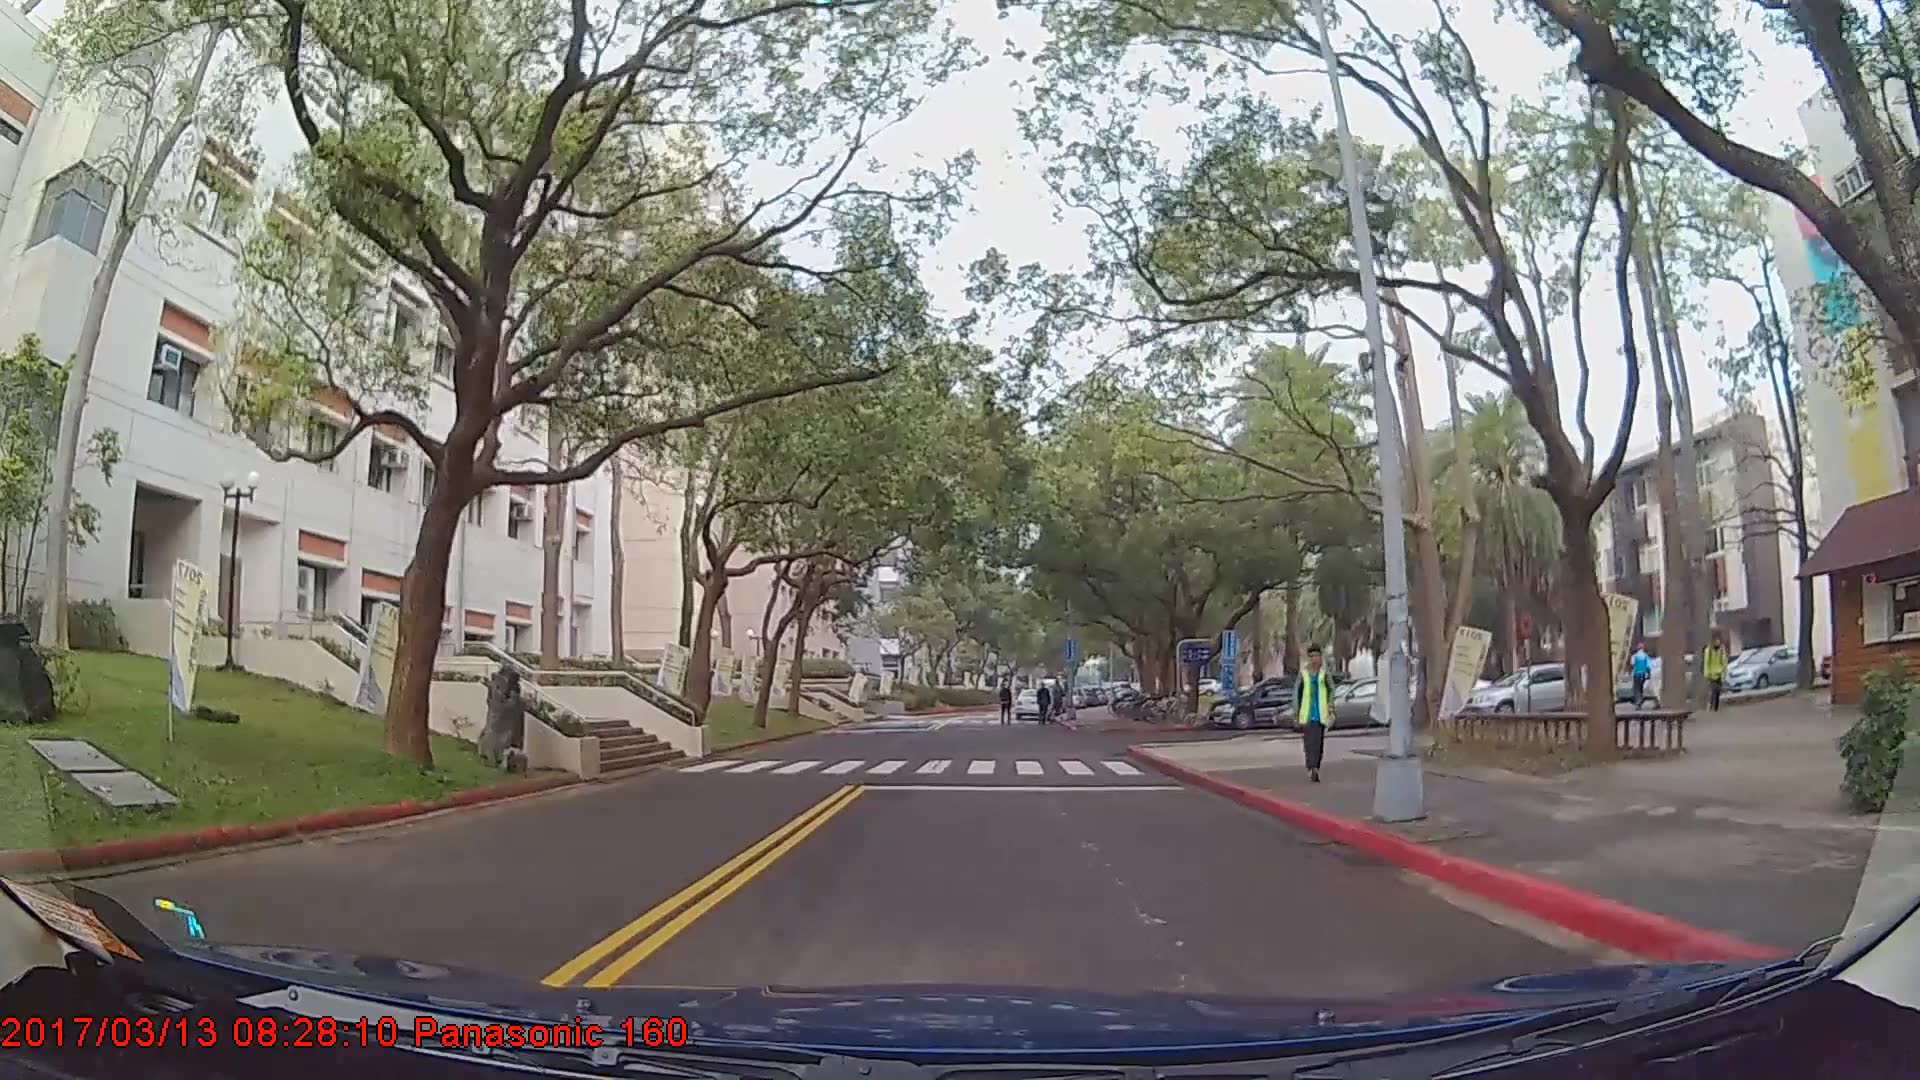pedestrian: (1296, 647, 1342, 787), (1631, 637, 1659, 719), (1704, 636, 1730, 716), (1035, 682, 1055, 726)
vehicle: (1290, 674, 1433, 732), (1461, 663, 1601, 722), (1211, 672, 1333, 728), (1723, 644, 1810, 694), (1012, 687, 1049, 718)
